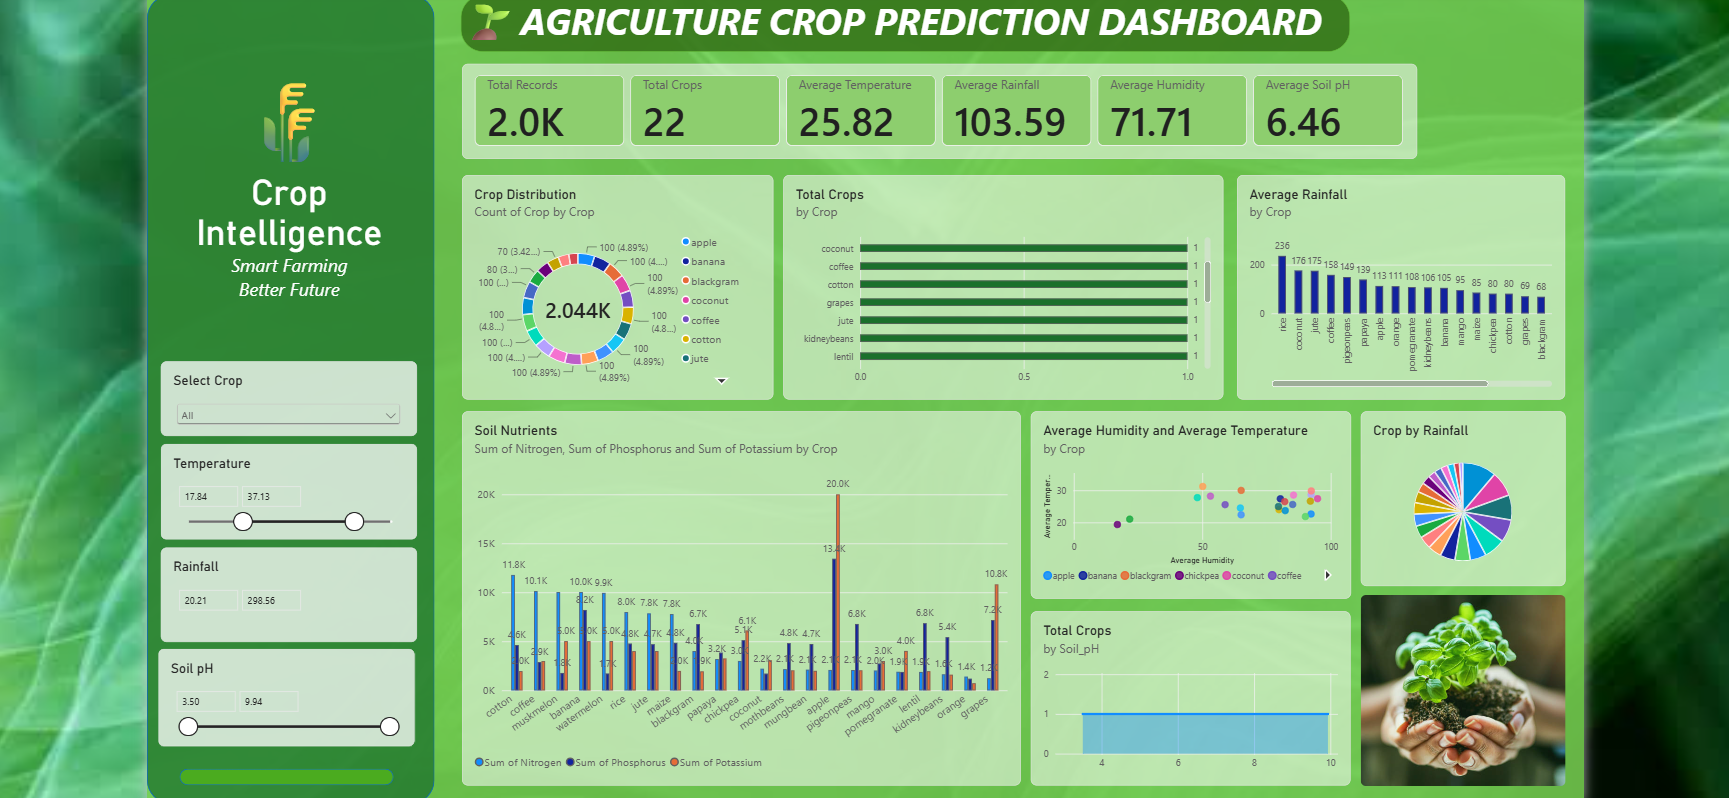

Layout of this report page (visuals, bound fields, positions):
{"tool":"powerbi","page":{"name":"Page 1","canvas":[1920,1080],"ordinal":0},"visuals":[{"type":"shape","box":[0,0,384,1080],"z":0},{"type":"textbox","box":[419.8,0,1187.7,76.2],"z":1000},{"type":"cardVisual","fields":{"Data":["Crop_Data.Total Records","Crop_Data.Total Crops","Crop_Data.Average Temperature","Crop_Data.Average Rainfall","Crop_Data.Average Humidity","Crop_Data.Average Soil pH"]},"box":[420,91.4,1275.7,127.1],"z":2000},{"type":"donutChart","title":"Crop Distribution","fields":{"Category":["Crop_Data.Crop"],"Y":["CountNonNull(Crop_Data.Crop)"]},"box":[420,240,416,300],"z":3000},{"type":"clusteredBarChart","fields":{"Category":["Crop_Data.Crop"],"Y":["Crop_Data.Total Crops"]},"box":[850,240,588,300],"z":4000},{"type":"clusteredColumnChart","title":"Soil Nutrients","fields":{"Category":["Crop_Data.Crop"],"Y":["Sum(Crop_Data.Nitrogen)","Sum(Crop_Data.Phosphorus)","Sum(Crop_Data.Potassium)"]},"box":[420,556,746,500],"z":5000},{"type":"clusteredColumnChart","fields":{"Category":["Crop_Data.Crop"],"Y":["Crop_Data.Average Rainfall"]},"box":[1456,240,438,300],"z":6000},{"type":"scatterChart","fields":{"Series":["Crop_Data.Crop"],"X":["Crop_Data.Average Humidity"],"Y":["Crop_Data.Average Temperature"]},"box":[1180,556,428,250],"z":7000},{"type":"stackedAreaChart","fields":{"Category":["Crop_Data.Soil_pH"],"Y":["Crop_Data.Total Crops"]},"box":[1180,823.8,427.5,232.5],"z":8000},{"type":"slicer","title":"Select Crop","fields":{"Values":["Crop_Data.Crop"]},"box":[18,490,342,100],"z":9000},{"type":"slicer","title":"Temperature","fields":{"Values":["Crop_Data.Temperature"]},"box":[17.8,600,342,128],"z":10000},{"type":"slicer","title":"Rainfall","fields":{"Values":["Crop_Data.Rainfall"]},"box":[17.8,737.8,342.2,126.7],"z":11000},{"type":"slicer","title":"Soil pH","fields":{"Values":["Crop_Data.Soil_pH"]},"box":[15.6,873.3,342.2,130],"z":12000},{"type":"shape","box":[43.8,1033.8,286,22],"z":13000},{"type":"pieChart","title":"Crop by Rainfall","fields":{"Category":["Crop_Data.Crop"],"Series":["Crop_Data.Crop"],"Y":["Sum(Crop_Data.Rainfall)"]},"box":[1621.5,555.6,273.3,233.4],"z":14000},{"type":"image","box":[1621.5,801.7,273.3,255.2],"z":14002},{"type":"textbox","box":[100,100,300,300],"z":14003},{"type":"textbox","box":[30.8,94.1,320.3,363.7],"z":14004}]}

Visuals, with their boxes on the page's 1920x1080 design canvas (x1, y1, x2, y2). These are canvas units, not pixel positions in the 1729x798 screenshot, which may show the page scaled, cropped or inside an application window:
shape: 0,0,384,1080
textbox: 420,0,1608,76
cardVisual - Crop_Data.Total Records x Crop_Data.Total Crops: 420,91,1696,218
"Crop Distribution" donutChart: 420,240,836,540
clusteredBarChart - Crop_Data.Crop x Crop_Data.Total Crops: 850,240,1438,540
"Soil Nutrients" clusteredColumnChart: 420,556,1166,1056
clusteredColumnChart - Crop_Data.Crop x Crop_Data.Average Rainfall: 1456,240,1894,540
scatterChart - Crop_Data.Crop x Crop_Data.Average Humidity: 1180,556,1608,806
stackedAreaChart - Crop_Data.Soil_pH x Crop_Data.Total Crops: 1180,824,1608,1056
"Select Crop" slicer: 18,490,360,590
"Temperature" slicer: 18,600,360,728
"Rainfall" slicer: 18,738,360,864
"Soil pH" slicer: 16,873,358,1003
shape: 44,1034,330,1056
"Crop by Rainfall" pieChart: 1622,556,1895,789
image: 1622,802,1895,1057
textbox: 100,100,400,400
textbox: 31,94,351,458
